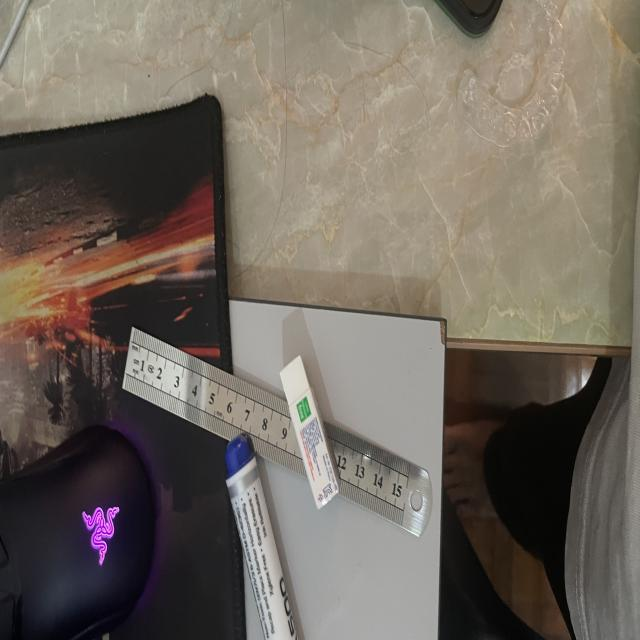eraser: (280, 356, 340, 509)
marker: (225, 436, 297, 640)
ruler: (123, 327, 306, 477), (324, 421, 432, 536)
